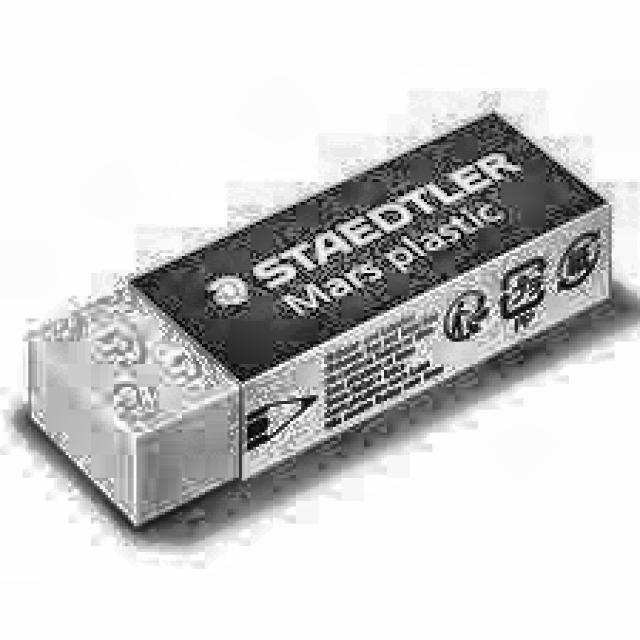eraser: (17, 102, 623, 532)
